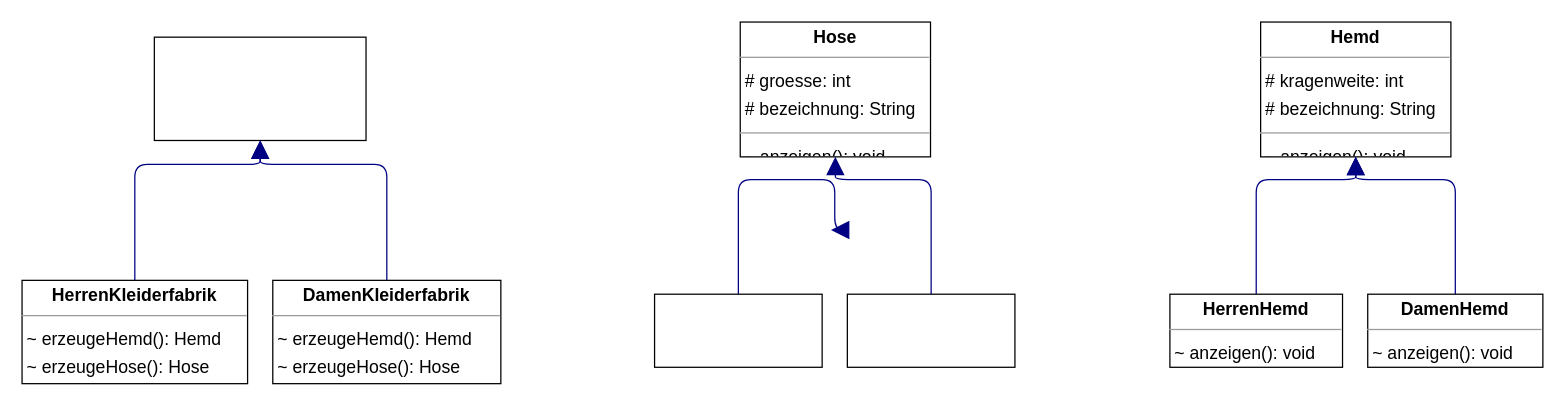
Image size: 1565x406. Some labels were removed from this diagram. Each missing label, with the centre of its shape:
"DamenHose ~ anzeigen(): void" belongs at pixel 930 330.
"HerrenHose ~ anzeigen(): void" belongs at pixel 737 330.
"Kleiderfabrik ~ erzeugeHose(): Hose ~ erzeugeHemd(): Hemd" belongs at pixel 259 88.
